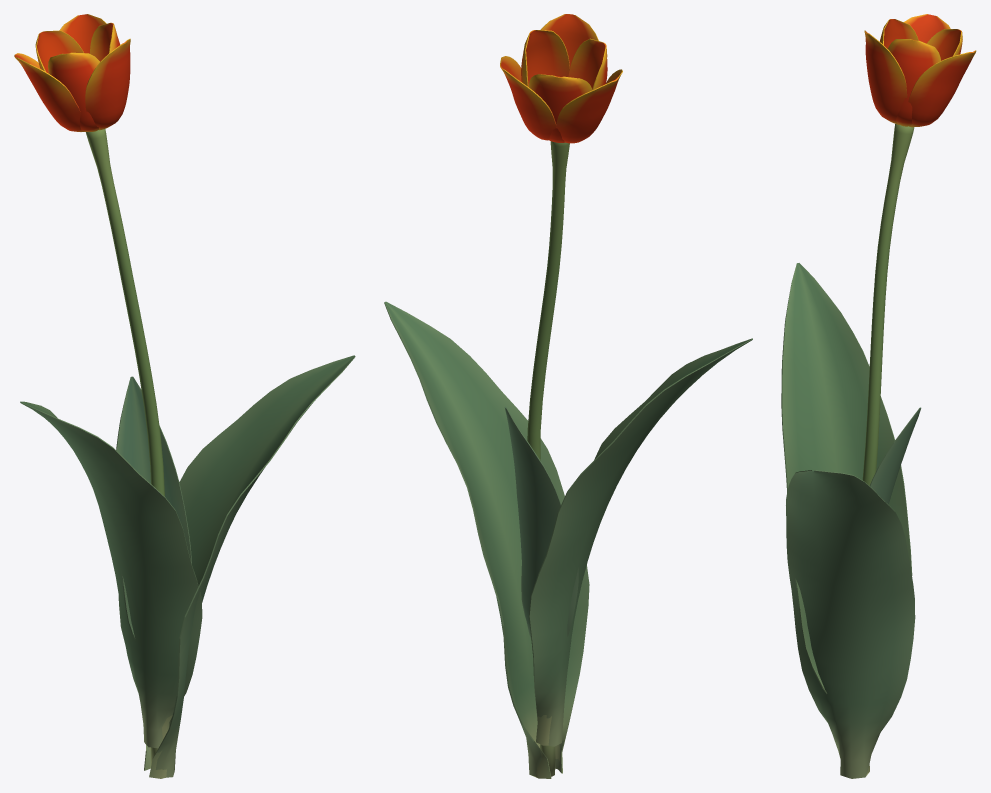
Rendered from open-flame.glb.
The picture shows the model from 3 angles, left to right: view 1: azimuth 30°, elevation 25°; view 2: azimuth 150°, elevation 25°; view 3: azimuth 270°, elevation 25°; orthographic projection. The views are drawn at different scales.
Parts seen in each view (by area): view 1: tulip-open-flame; view 2: tulip-open-flame; view 3: tulip-open-flame.
Boxes of the visible parts, <box> form: tulip-open-flame: <box>14,14,355,778</box>; tulip-open-flame: <box>384,14,752,778</box>; tulip-open-flame: <box>781,14,976,778</box>.
Size of the model in its own units: 0.209 by 0.4277 by 0.1041.
